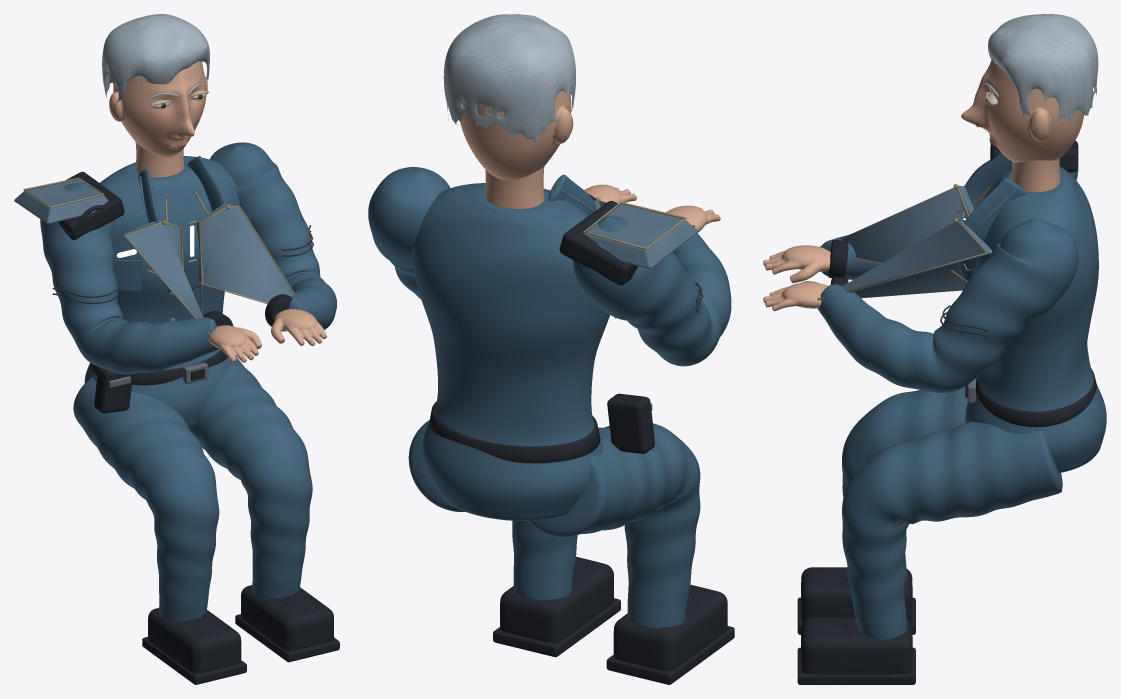
The model's file is silver.gltf.
3 views of the same model, side by side, from view 1: azimuth 30°, elevation 25°; view 2: azimuth 150°, elevation 25°; view 3: azimuth 270°, elevation 25° (orthographic). The views are drawn at different scales.
Parts seen in each view (by area): view 1: council-asset-10-silver_Fabric, council-asset-10-silver_Leather, Oni Metal tailoring, sculpted-head_Hair, sculpted-head_Skin, council-asset-10-silver_Skin, council-asset-10-silver_Metal; view 2: council-asset-10-silver_Fabric, council-asset-10-silver_Leather, sculpted-head_Hair, sculpted-head_Skin, Oni Metal tailoring, council-asset-10-silver_Skin; view 3: council-asset-10-silver_Fabric, council-asset-10-silver_Leather, Oni Metal tailoring, sculpted-head_Hair, sculpted-head_Skin, council-asset-10-silver_Skin.
Boxes of the visible parts, x1=… form: council-asset-10-silver_Fabric: x1=40, y1=142, x2=336, y2=620; council-asset-10-silver_Leather: x1=58, y1=171, x2=339, y2=684; Oni Metal tailoring: x1=14, y1=177, x2=306, y2=336; sculpted-head_Hair: x1=102, y1=14, x2=209, y2=107; sculpted-head_Skin: x1=109, y1=61, x2=207, y2=157; council-asset-10-silver_Skin: x1=135, y1=142, x2=327, y2=362; council-asset-10-silver_Metal: x1=108, y1=284, x2=208, y2=387; council-asset-10-silver_Fabric: x1=368, y1=167, x2=731, y2=628; council-asset-10-silver_Leather: x1=429, y1=194, x2=734, y2=684; sculpted-head_Hair: x1=443, y1=14, x2=575, y2=142; sculpted-head_Skin: x1=460, y1=90, x2=573, y2=180; Oni Metal tailoring: x1=544, y1=188, x2=698, y2=268; council-asset-10-silver_Skin: x1=485, y1=167, x2=720, y2=232; council-asset-10-silver_Fabric: x1=817, y1=152, x2=1106, y2=639; council-asset-10-silver_Leather: x1=797, y1=138, x2=1096, y2=684; Oni Metal tailoring: x1=817, y1=146, x2=996, y2=300; sculpted-head_Hair: x1=988, y1=14, x2=1098, y2=133; sculpted-head_Skin: x1=961, y1=59, x2=1084, y2=162; council-asset-10-silver_Skin: x1=763, y1=158, x2=1060, y2=311.
Size of what is drawn, in the model's own units: 0.9841 by 2.04 by 1.02.
Materials: 7 (5 with a texture image).
